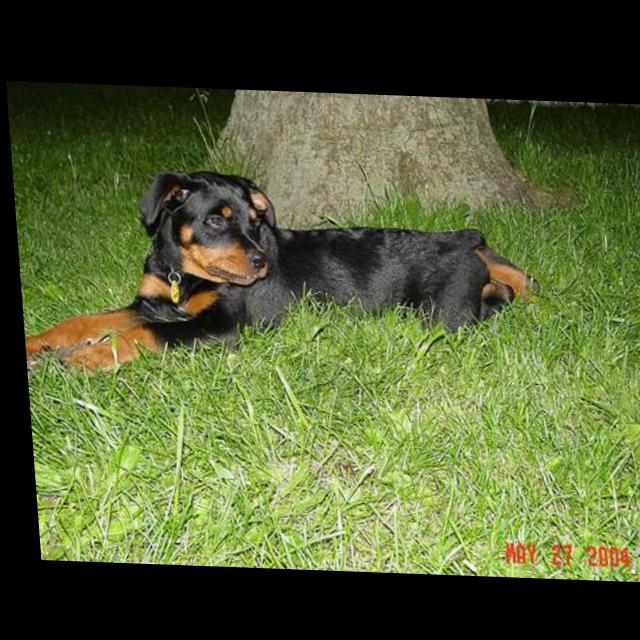rottweiler: (11, 161, 542, 392)
